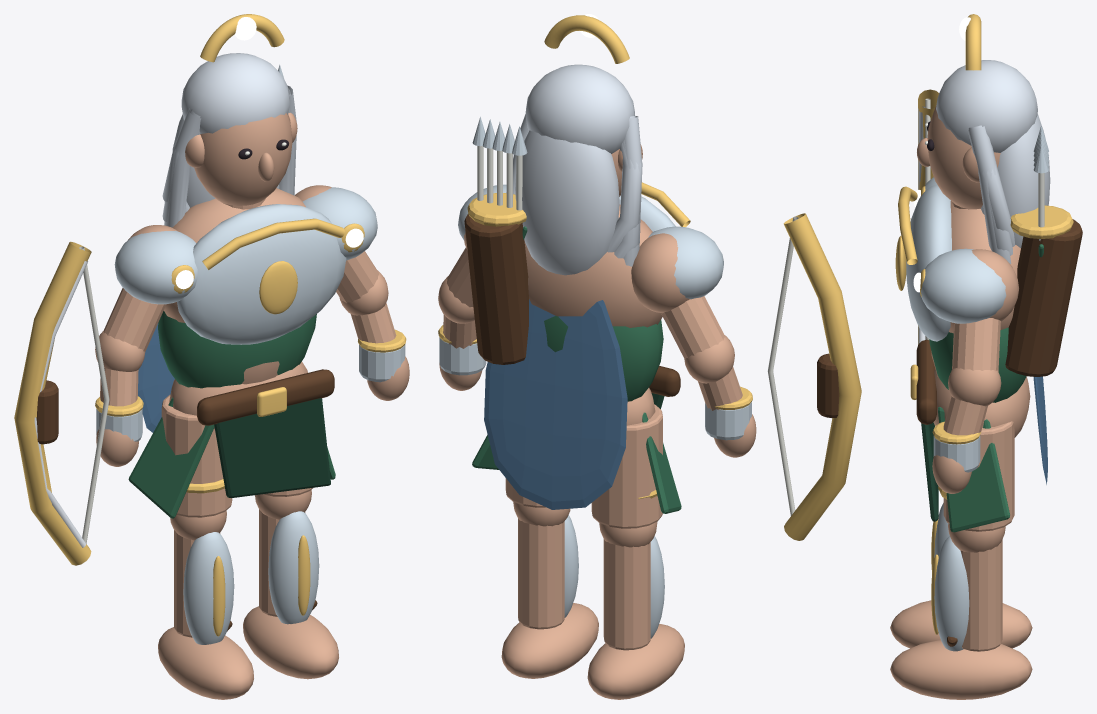
File: ArtemisModel.fbx
3 views of the same model, side by side, from view 1: azimuth 30°, elevation 25°; view 2: azimuth 150°, elevation 25°; view 3: azimuth 270°, elevation 25° (orthographic).
Visible parts, largest first — view 1: Silver Chest Armour, Front Skirt Panel, Artemis Recurve Bow, Silver Hair Cap, Green Tunic, Head, Foot.001, Foot, Silver Shoulder Armour, Silver Greaves, Silver Greaves.001, Left Skirt Panel (+32 smaller); view 2: Flowing Moon Cape, Long Hair Back, Artemis Recurve Bow, Leather Arrow Quiver, Silver Hair Cap, Chest, Lower Leg, Lower Leg.001, Upper Leg, Foot.001, Foot, Green Tunic (+26 smaller); view 3: Leather Arrow Quiver, Silver Hair Cap, Foot.001, Silver Shoulder Armour.001, Silver Chest Armour, Lower Leg.001, Right Skirt Panel, Long Hair Back, Silver Greaves.001, Head, Foot, Upper Arm.001 (+27 smaller).
Part boxes in pixels (left/top/right/bottom): Silver Chest Armour: left=177, top=204, right=346, bottom=344; Front Skirt Panel: left=214, top=398, right=330, bottom=497; Artemis Recurve Bow: left=14, top=241, right=91, bottom=565; Silver Hair Cap: left=181, top=53, right=289, bottom=133; Green Tunic: left=158, top=311, right=316, bottom=388; Head: left=194, top=113, right=292, bottom=205; Foot.001: left=243, top=606, right=338, bottom=679; Foot: left=158, top=627, right=253, bottom=699; Silver Shoulder Armour: left=114, top=230, right=197, bottom=304; Silver Greaves: left=183, top=532, right=234, bottom=644; Silver Greaves.001: left=268, top=511, right=319, bottom=624; Left Skirt Panel: left=128, top=397, right=214, bottom=518; Flowing Moon Cape: left=484, top=299, right=627, bottom=509; Long Hair Back: left=515, top=130, right=619, bottom=275; Artemis Recurve Bow: left=783, top=213, right=861, bottom=540; Leather Arrow Quiver: left=464, top=214, right=528, bottom=364; Silver Hair Cap: left=525, top=64, right=634, bottom=153; Chest: left=524, top=204, right=662, bottom=327; Lower Leg: left=603, top=539, right=650, bottom=650; Lower Leg.001: left=518, top=518, right=564, bottom=629; Upper Leg: left=591, top=404, right=662, bottom=528; Foot.001: left=501, top=603, right=598, bottom=678; Foot: left=587, top=624, right=684, bottom=699; Green Tunic: left=544, top=316, right=663, bottom=401; Leather Arrow Quiver: left=1005, top=219, right=1082, bottom=376; Silver Hair Cap: left=936, top=60, right=1037, bottom=152; Foot.001: left=890, top=640, right=1032, bottom=699; Silver Shoulder Armour.001: left=920, top=248, right=1006, bottom=323; Silver Chest Armour: left=906, top=185, right=951, bottom=341; Lower Leg.001: left=960, top=539, right=1002, bottom=651; Right Skirt Panel: left=938, top=407, right=1009, bottom=532; Long Hair Back: left=981, top=114, right=1050, bottom=248; Silver Greaves.001: left=934, top=536, right=969, bottom=651; Head: left=927, top=106, right=1000, bottom=209; Foot: left=890, top=600, right=1032, bottom=648; Upper Arm.001: left=952, top=318, right=1000, bottom=371.
Size of what is drawn, in the model's own units: 208 by 326 by 86.62.
